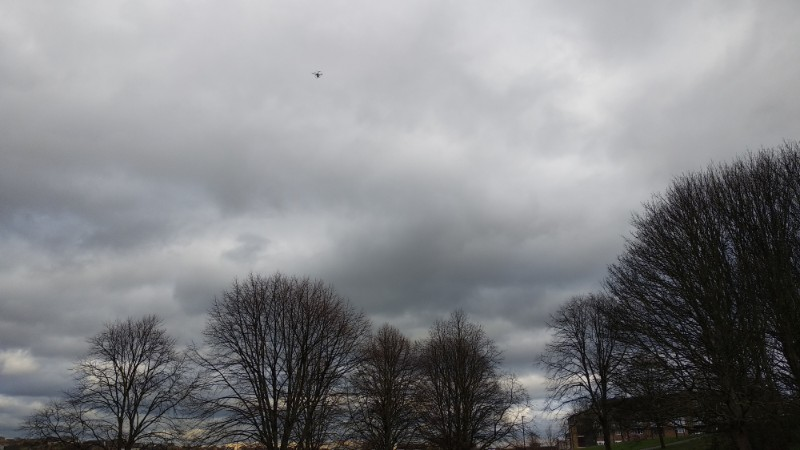drone: (311, 70, 324, 79)
